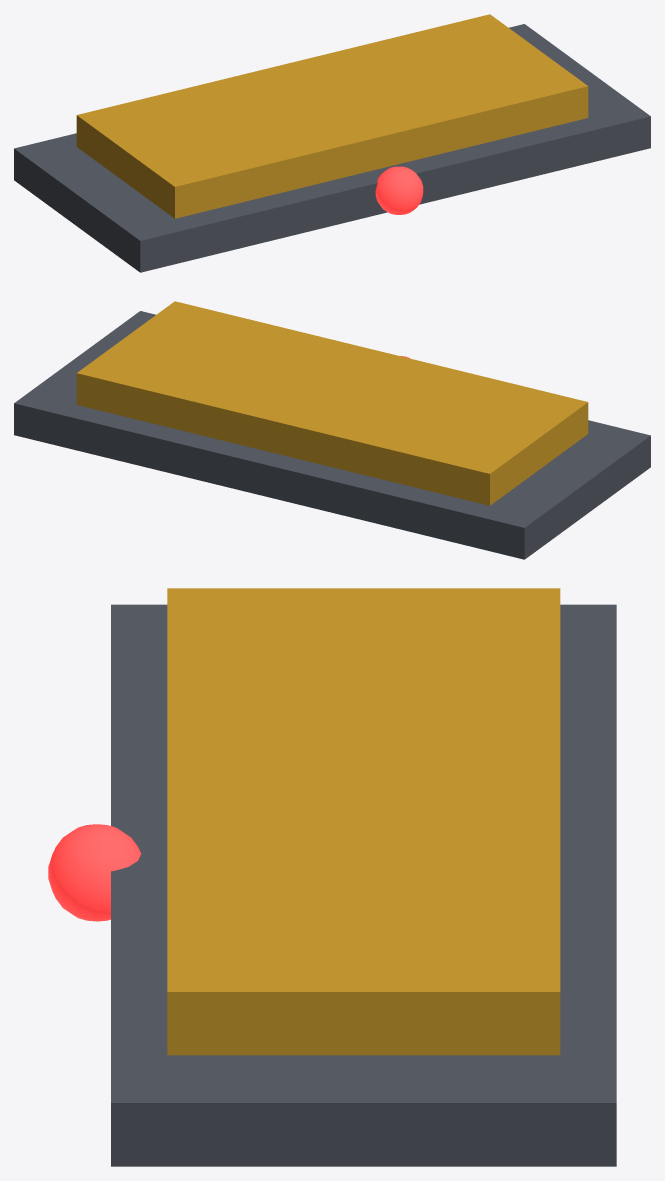
The model's file is bouton.glb.
3 renders of one model, top to bottom at view 1: azimuth 30°, elevation 25°; view 2: azimuth 150°, elevation 25°; view 3: azimuth 270°, elevation 25°, orthographic. The views are drawn at different scales.
Parts seen in each view (by area): view 1: tete, base, voyant_off; view 2: tete, base; view 3: tete, base, voyant_off.
Boxes of the visible parts, x1,y1,x2,y2 form: tete: (76, 14, 588, 218); base: (14, 24, 650, 272); voyant_off: (375, 166, 423, 214); tete: (76, 301, 588, 505); base: (14, 311, 650, 559); tete: (167, 588, 560, 1055); base: (111, 604, 616, 1166); voyant_off: (48, 824, 141, 921).
Size of the model in its own units: 0.84 by 0.1 by 0.4046.
